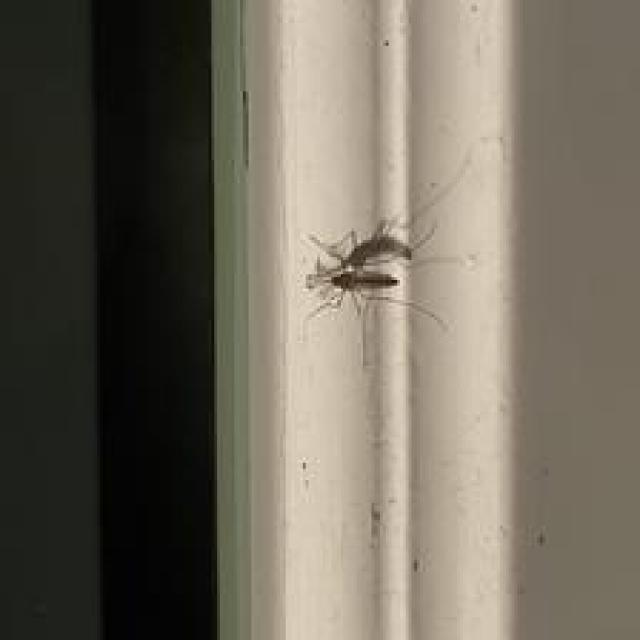Culex: (306, 216, 454, 367)
